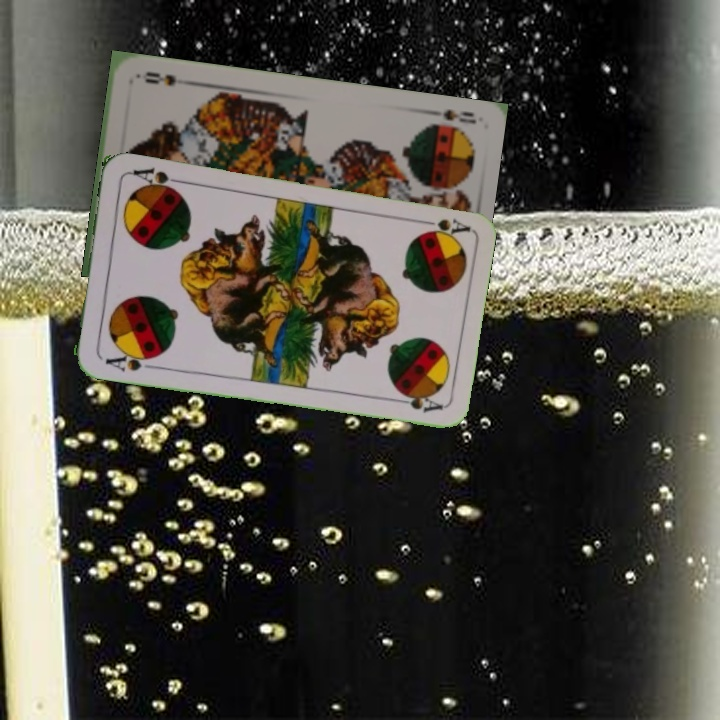SA: (101, 346, 157, 375), (412, 214, 471, 238)
SO: (421, 105, 479, 126)
